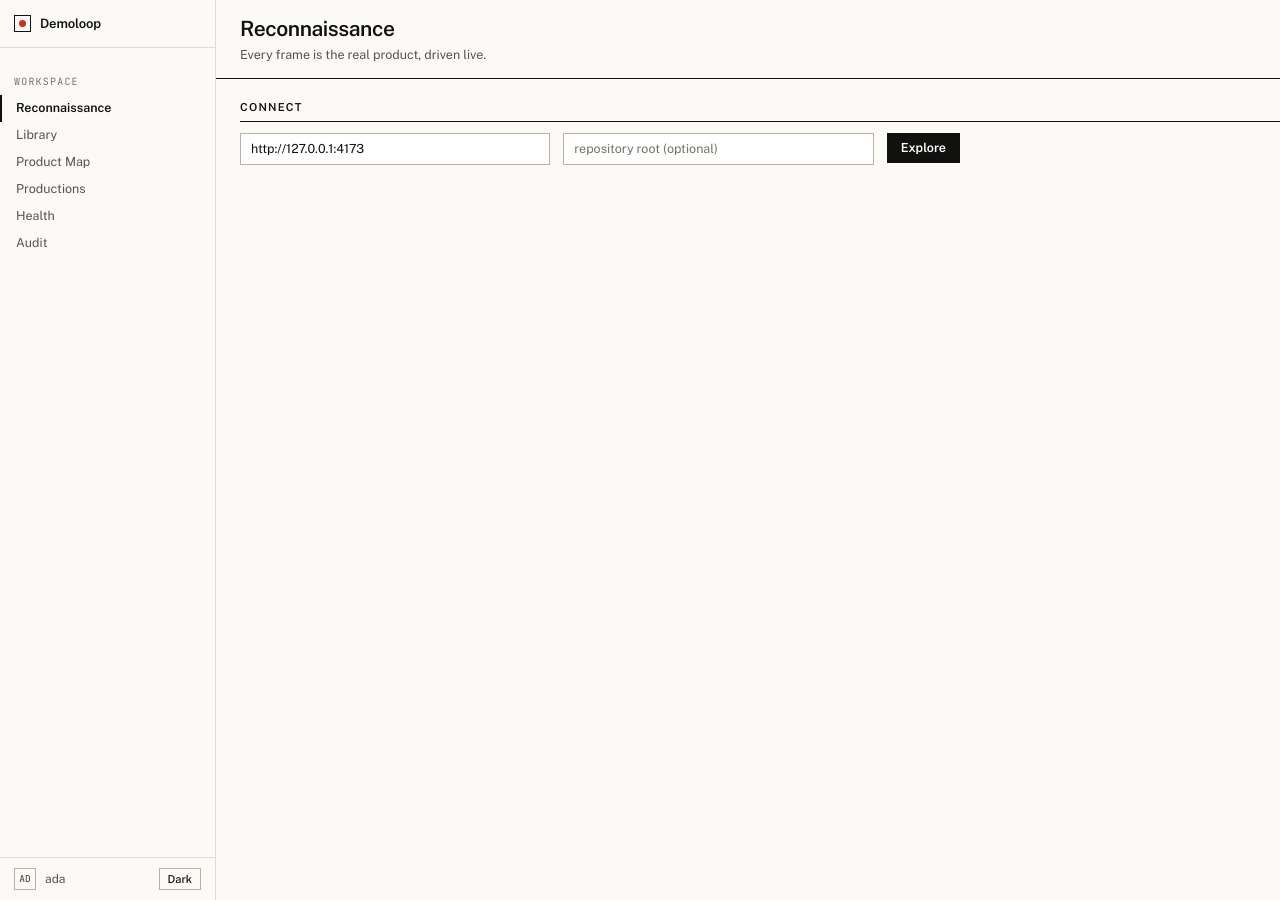
Test: reconnaissance shows the mapped product once it completes
Click the button "Explore": point(923, 148) [887,133,960,163]
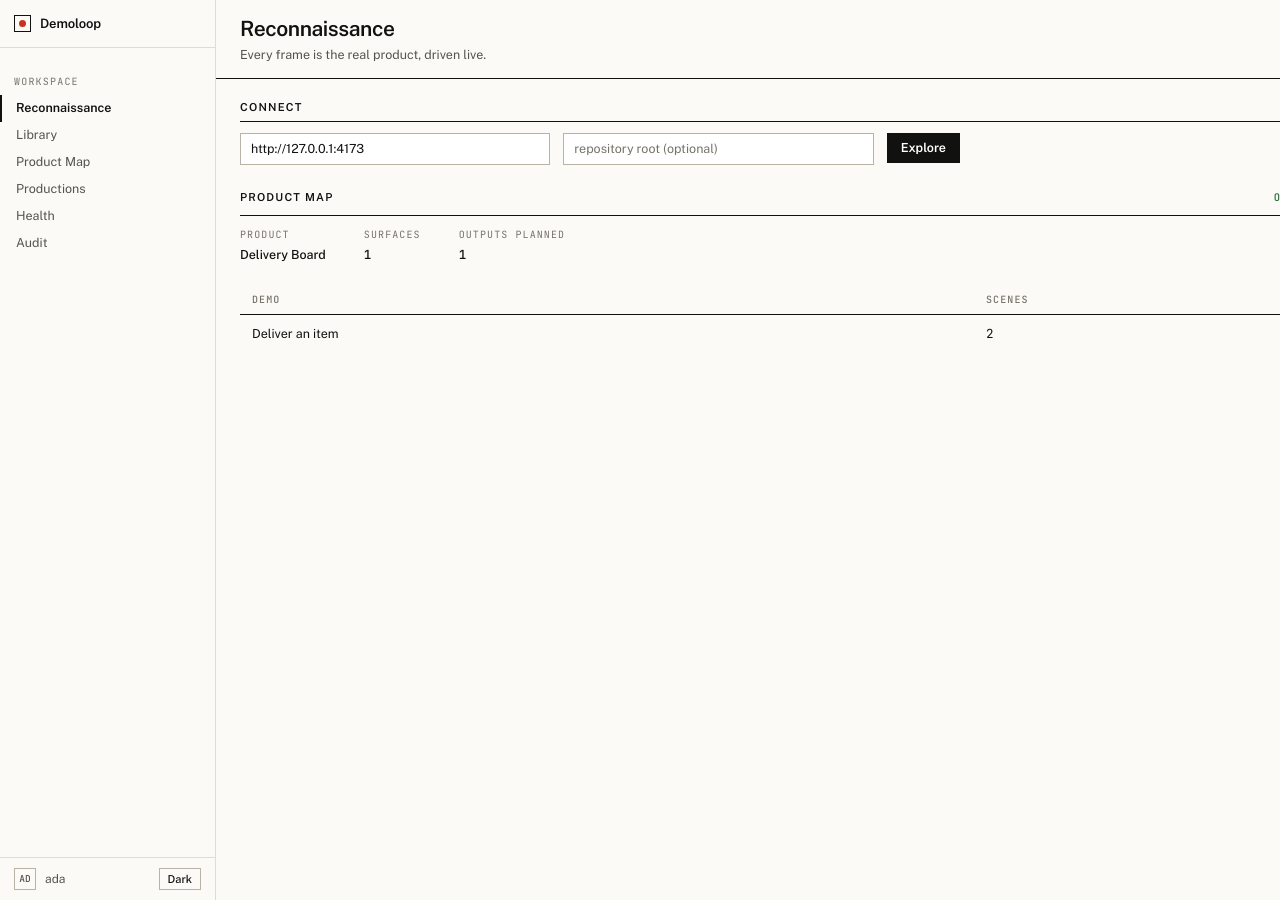
expect the text "Delivery Board" is shown: met, box [240,246,326,265]
expect the text "Deliver an item" is shown: met, box [240,314,974,353]
